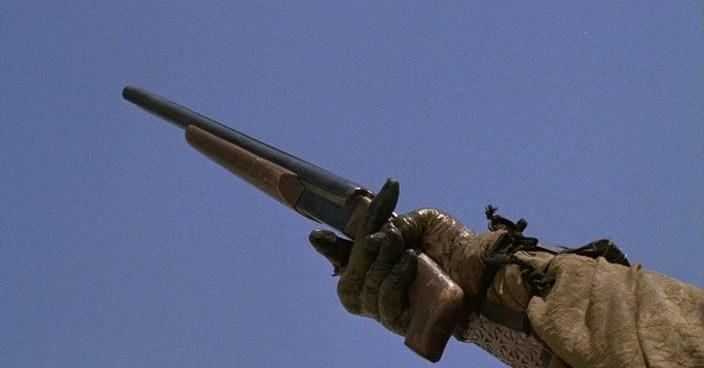gun: (88, 55, 476, 365)
